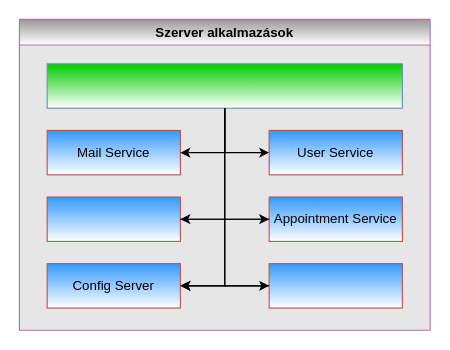
Some shapes in this 450 by 350 pixel diagram are drawn without their labels. Each missing label, with the centre of its shape:
"API Gateway" belongs at point 224,85.
"Category Service" belongs at point 335,285.
"Event Service" belongs at point 113,218.
